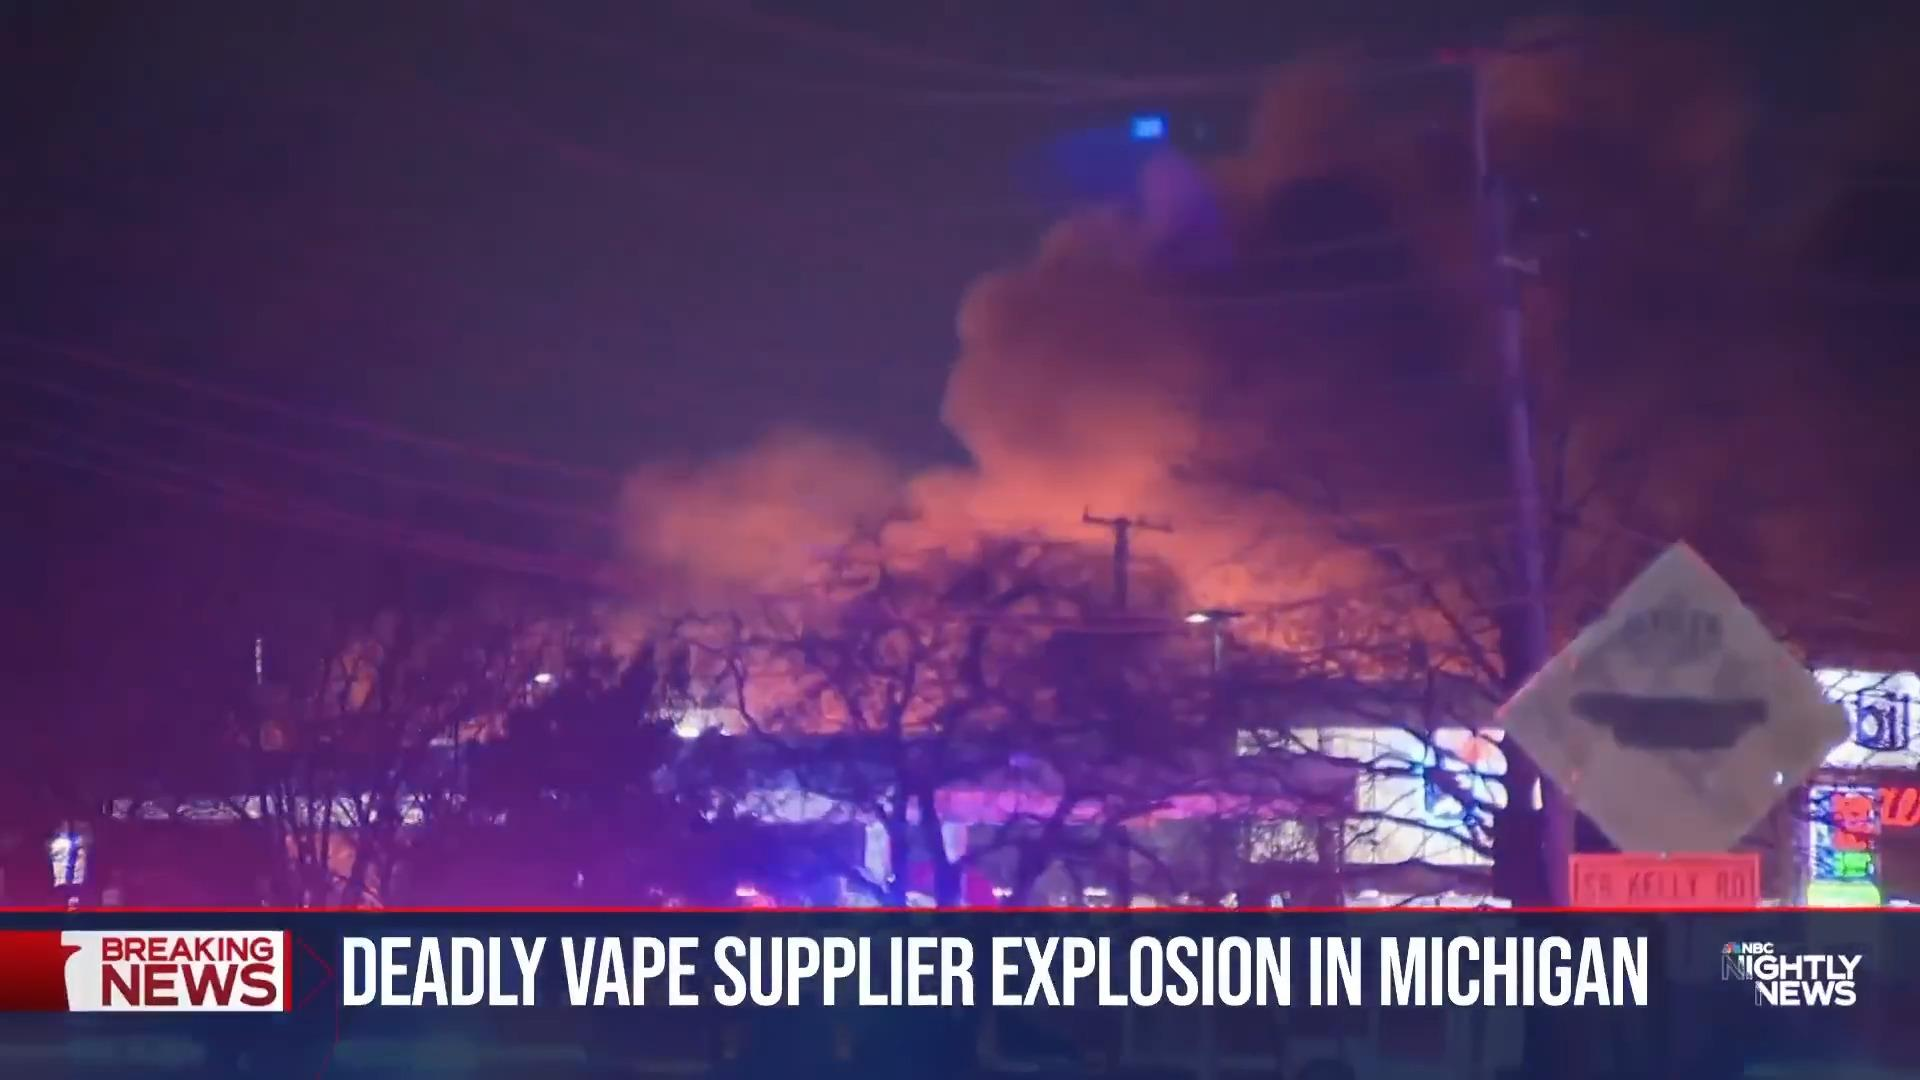fire: (682, 290, 1469, 650)
